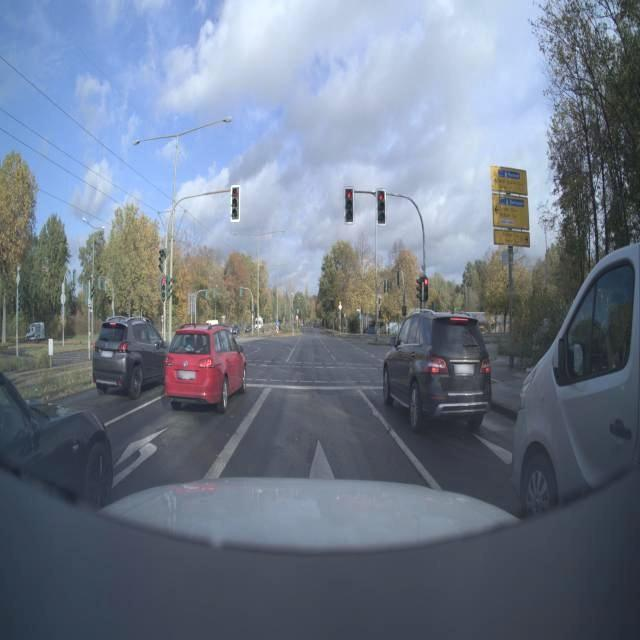Red: (341, 183, 358, 225), (374, 187, 388, 226), (423, 274, 428, 308)
